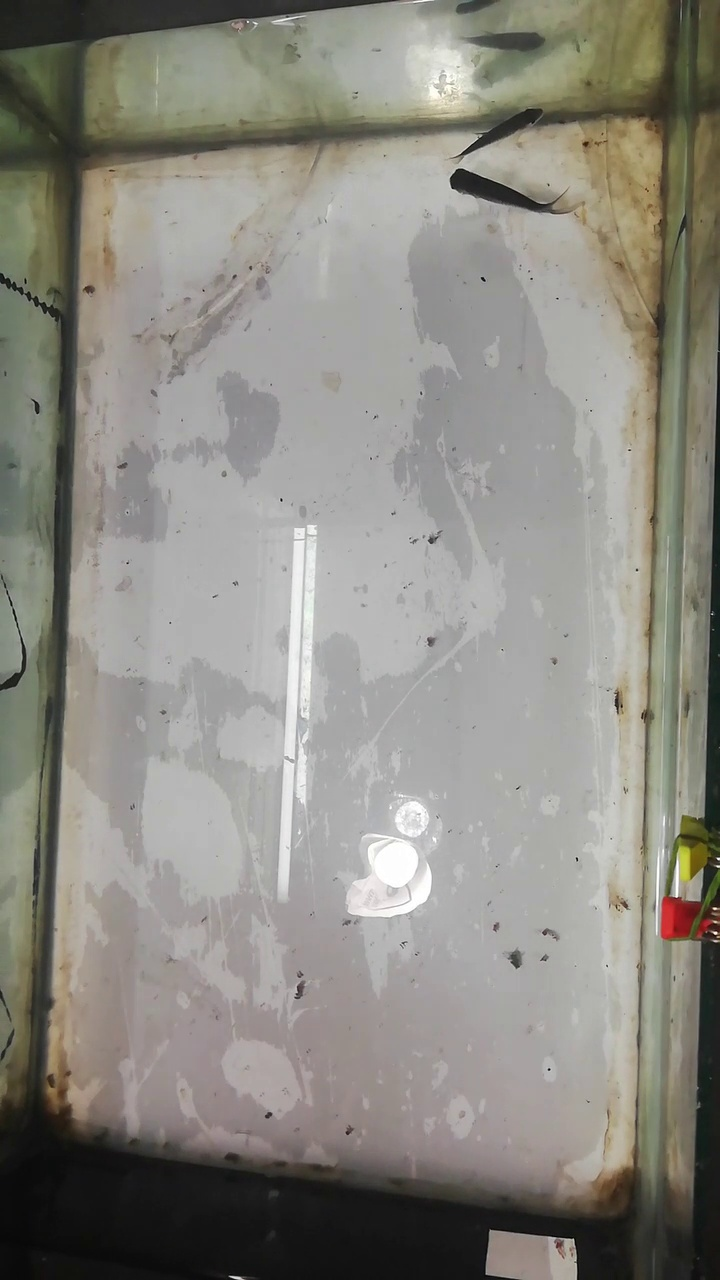fish1: (448, 168, 572, 217)
fish2: (443, 106, 543, 158)
